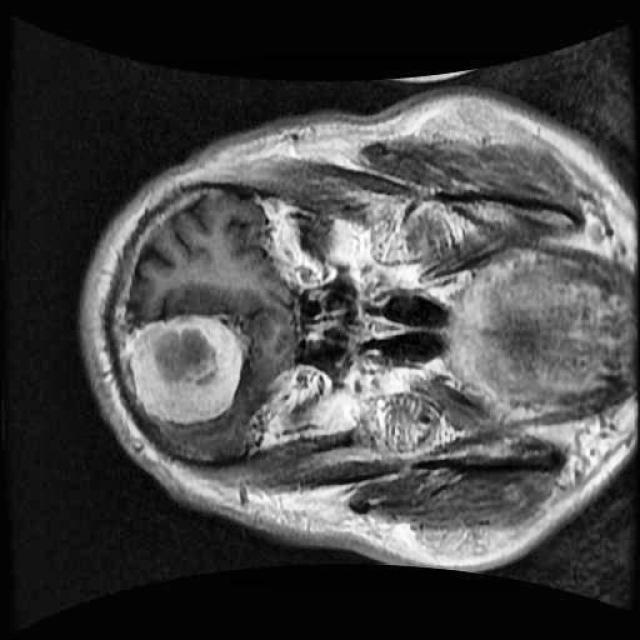Non-Tumor: (123, 305, 250, 430)
